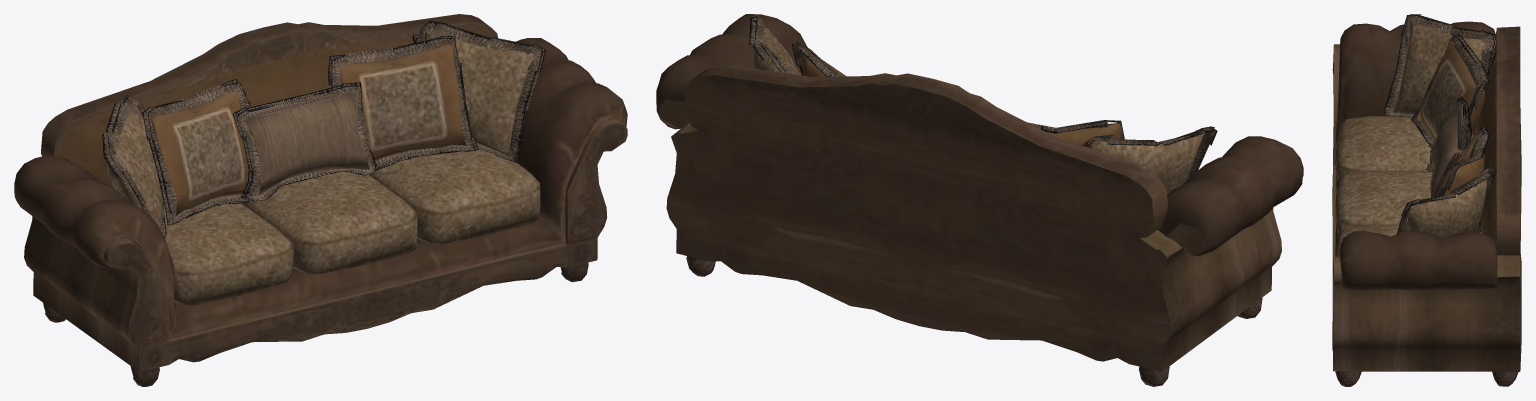
Rendered from sofa_03.glb.
3 renders of one model, left to right at view 1: azimuth 30°, elevation 25°; view 2: azimuth 150°, elevation 25°; view 3: azimuth 270°, elevation 25°, orthographic. The views are drawn at different scales.
Parts seen in each view (by area): view 1: sofa_03; view 2: sofa_03; view 3: sofa_03.
Boxes of the visible parts, box(x1,y1,x2,y2) form: sofa_03: box(14, 14, 627, 386); sofa_03: box(656, 14, 1303, 386); sofa_03: box(1332, 14, 1521, 386).
Size of the model in its own units: 2.73 by 1.12 by 0.925.
Materials: 2 (2 with a texture image).
